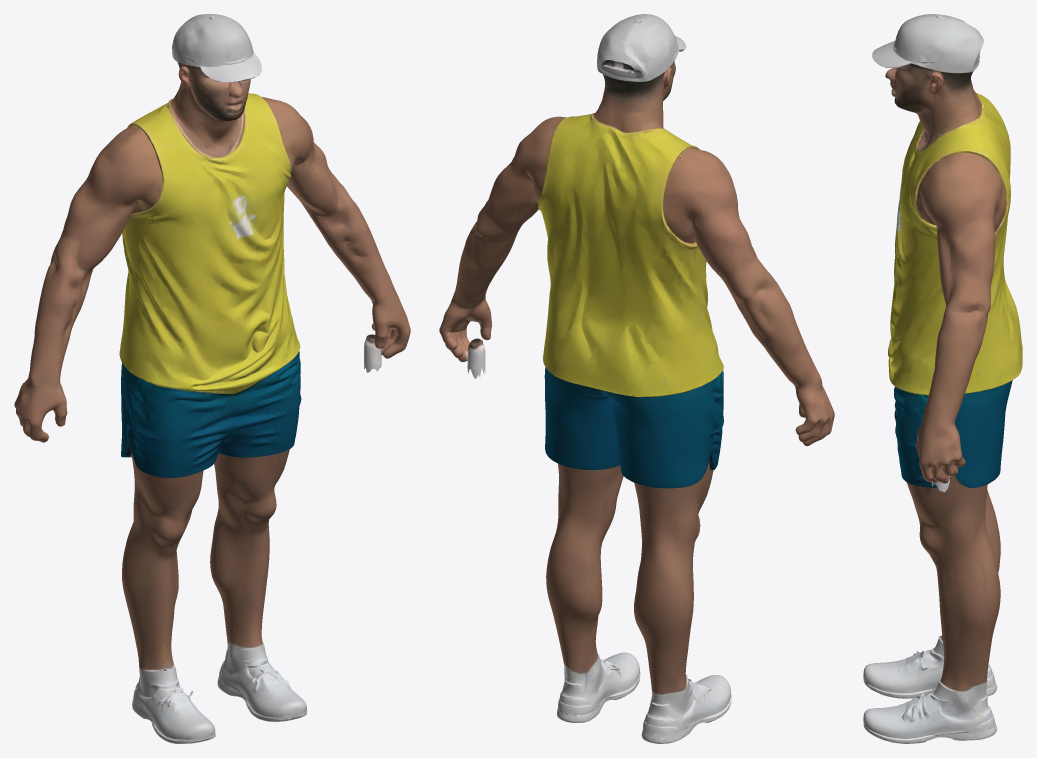
File: rodin-shelton-rigged.glb
The picture shows the model from 3 angles, left to right: view 1: azimuth 30°, elevation 25°; view 2: azimuth 150°, elevation 25°; view 3: azimuth 270°, elevation 25°; orthographic projection.
Visible parts, largest first — view 1: model; view 2: model; view 3: model.
Part boxes in pixels (box(x1,y1,x2,y2)): model: box(14, 14, 410, 743); model: box(439, 14, 834, 743); model: box(863, 14, 1022, 743).
Bounding box in the file's own units: 1.08 × 1.85 × 0.3844.
1 material, 1 textured.
